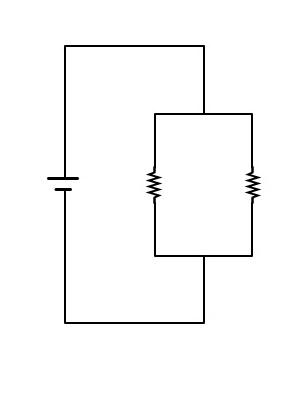resistor: (232, 157, 273, 204), (135, 160, 170, 213)
